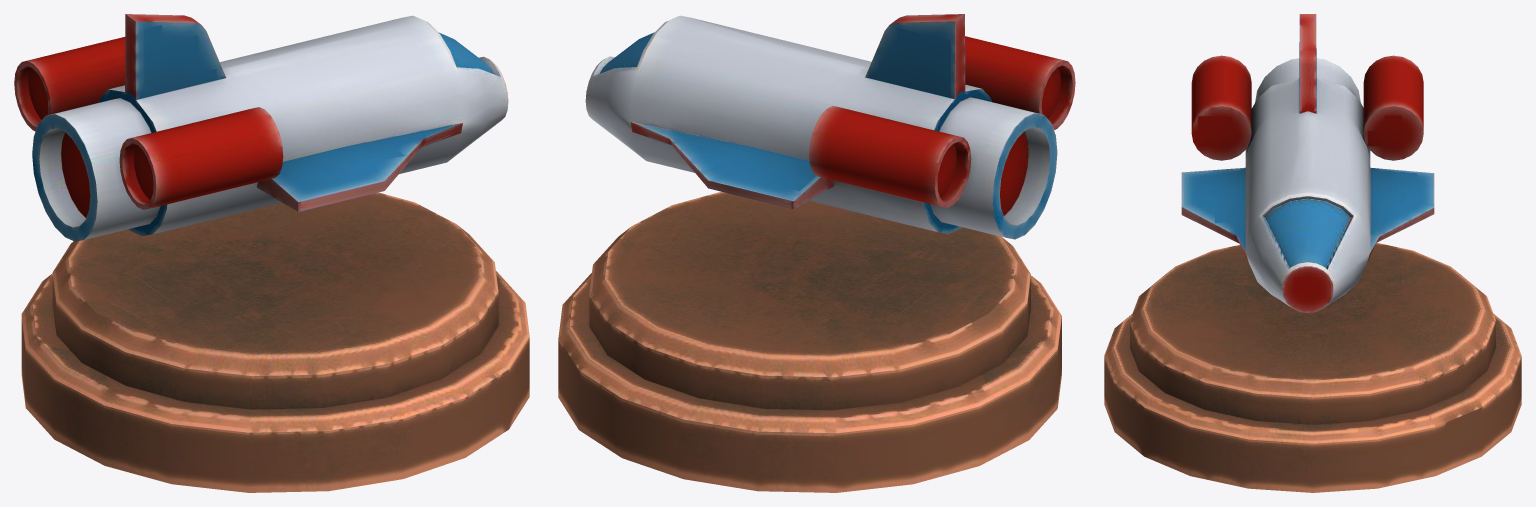
File: NAV1BRONZE.fbx
3 renders of one model, left to right at view 1: azimuth 30°, elevation 25°; view 2: azimuth 150°, elevation 25°; view 3: azimuth 270°, elevation 25°, orthographic. The views are drawn at different scales.
Parts seen in each view (by area): view 1: polySurface88, polySurface90; view 2: polySurface88, polySurface90; view 3: polySurface88, polySurface90.
Part boxes in pixels (x1=…): polySurface88: x1=21, y1=192, x2=529, y2=492; polySurface90: x1=14, y1=14, x2=508, y2=241; polySurface88: x1=558, y1=191, x2=1061, y2=492; polySurface90: x1=585, y1=14, x2=1075, y2=239; polySurface88: x1=1104, y1=243, x2=1521, y2=492; polySurface90: x1=1181, y1=14, x2=1434, y2=312.
Bounding box in the file's own units: 0.4773 × 0.4188 × 0.4773.
Materials: 1 (1 with a texture image).
